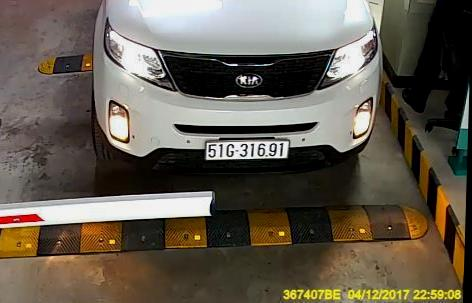License_Plate: (200, 136, 300, 168)
